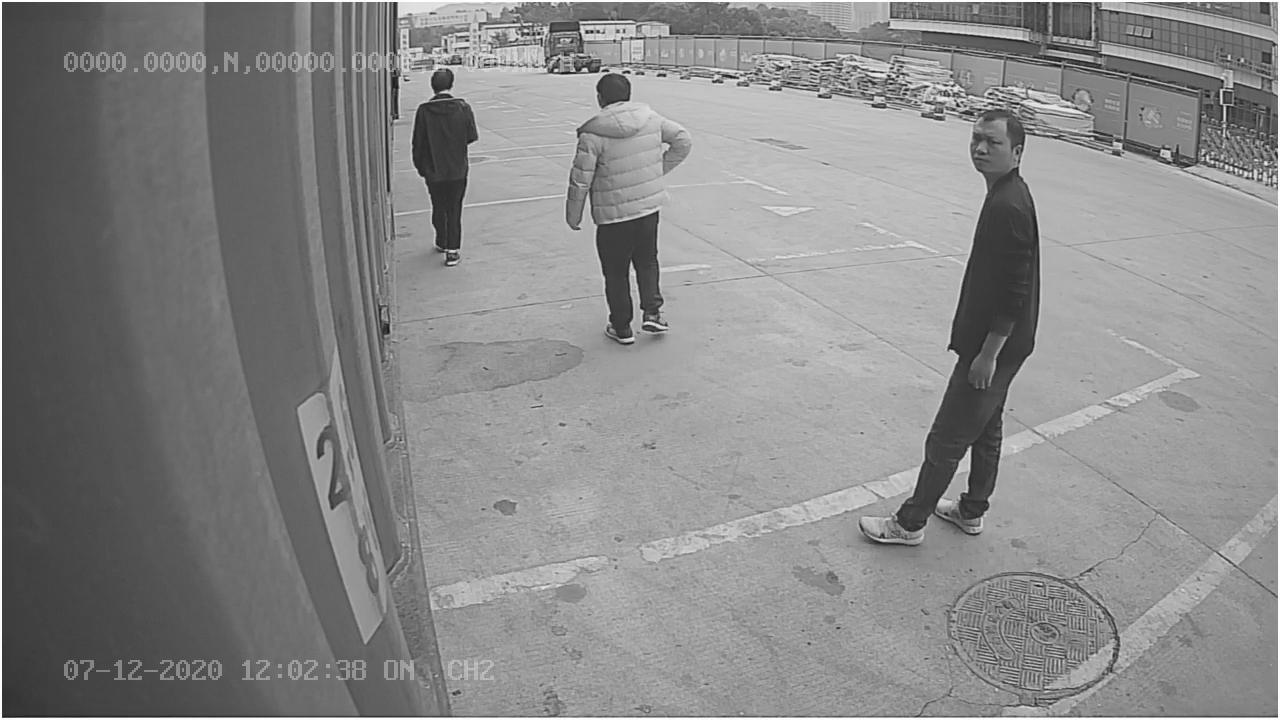person: (855, 93, 1047, 545), (563, 73, 691, 355)
